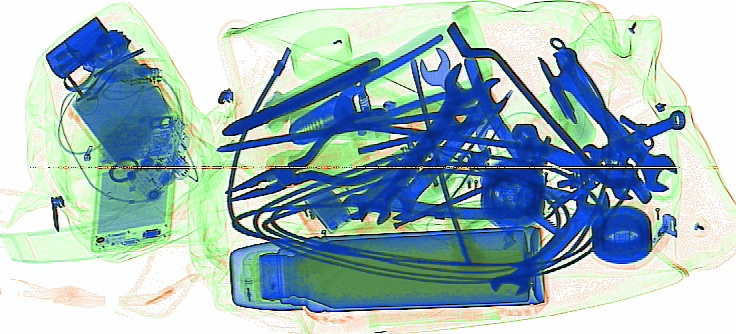banshou: (358, 62, 485, 225), (541, 46, 678, 194), (379, 75, 513, 220), (341, 93, 477, 218), (488, 187, 612, 298), (508, 121, 651, 207), (416, 43, 511, 156), (580, 109, 685, 171)
jianruigongju: (408, 53, 490, 281), (535, 54, 598, 147)
metalcup: (227, 223, 547, 319)
qianzi: (339, 54, 591, 241), (287, 23, 491, 144), (224, 102, 400, 204), (220, 49, 383, 140)
smallelectronicequipment: (65, 36, 201, 203), (87, 106, 180, 254)
